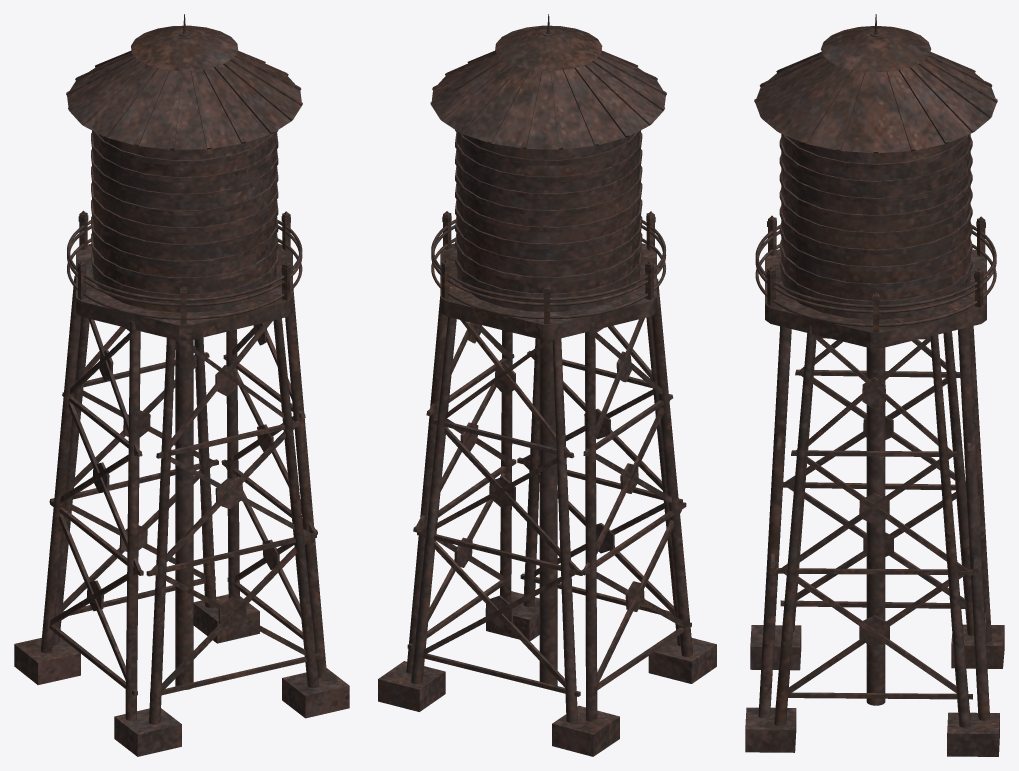
File: low_poly_western_watertower.glb
3 renders of one model, left to right at view 1: azimuth 30°, elevation 25°; view 2: azimuth 150°, elevation 25°; view 3: azimuth 270°, elevation 25°, orthographic. The views are drawn at different scales.
Parts seen in each view (by area): view 1: Object_2; view 2: Object_2; view 3: Object_2.
Part boxes in pixels (bbox=[...]): Object_2: bbox=[14, 14, 349, 756]; Object_2: bbox=[378, 14, 716, 756]; Object_2: bbox=[745, 14, 1004, 756].
Bounding box in the file's own units: 8.93 × 26.06 × 8.91.
1 material, 1 textured.
